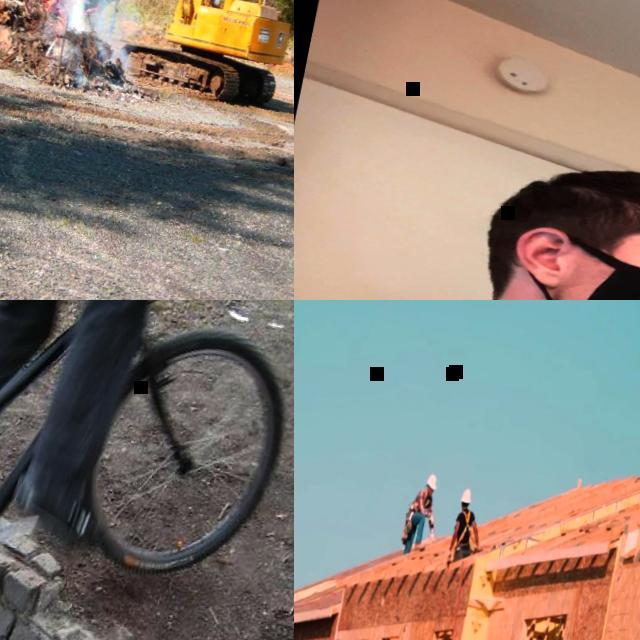helmet: (426, 474, 439, 491), (461, 489, 474, 505)
